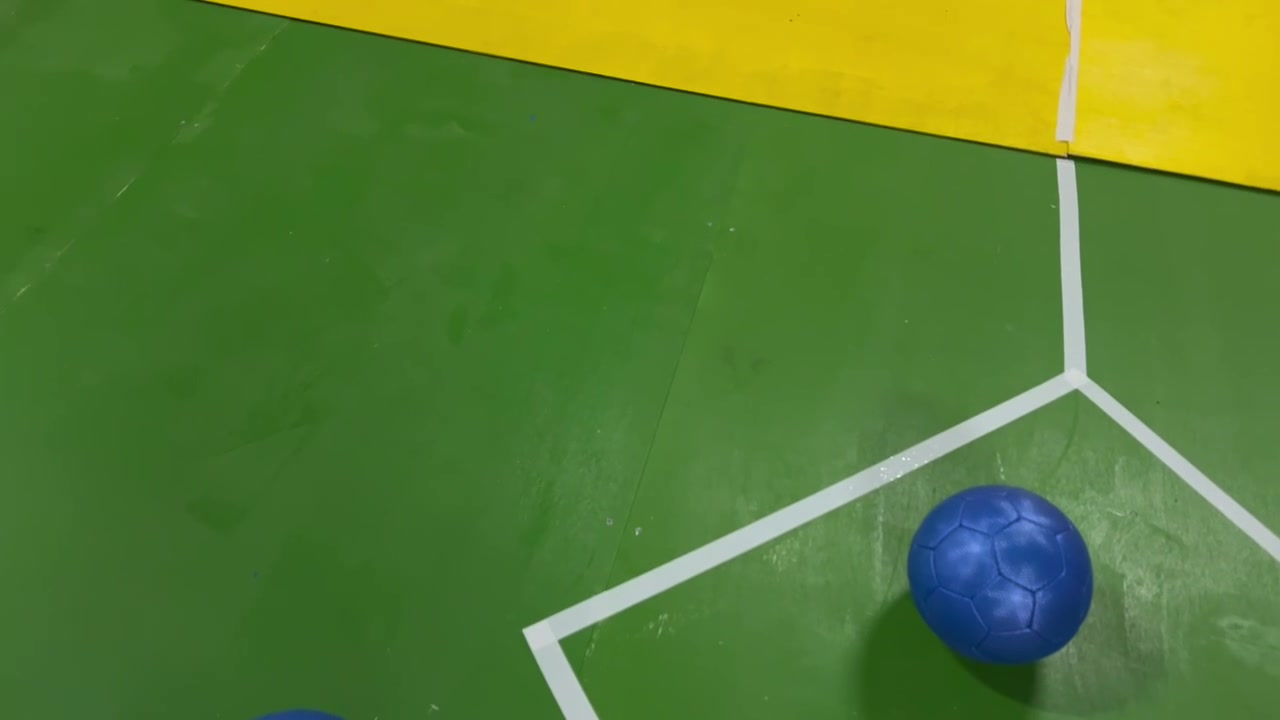blue: (908, 478, 1092, 669)
